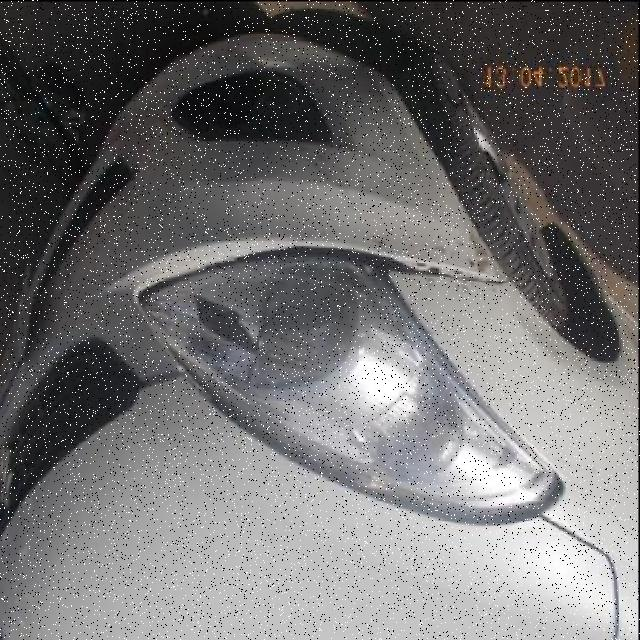damage: (150, 228, 513, 295), (290, 142, 363, 218)
